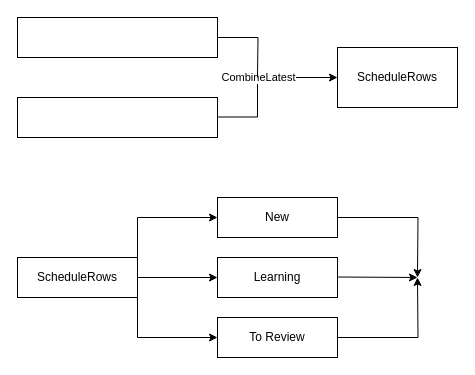
The diagram is 475 pixels wide and 375 high, and some of its shapes have lost their labels. Here are the shapes that lost their labels. From the top down, the centre of each, then its label:
the point at 117,37: wordCountsIndexedByBook
the point at 117,117: wordRecognitionRows
